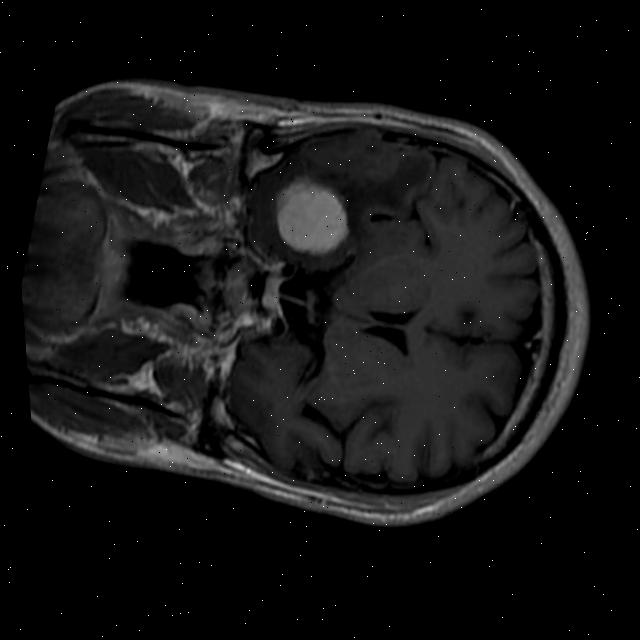Meningioma: (259, 169, 363, 268)
Pituitary: (254, 271, 289, 313)
